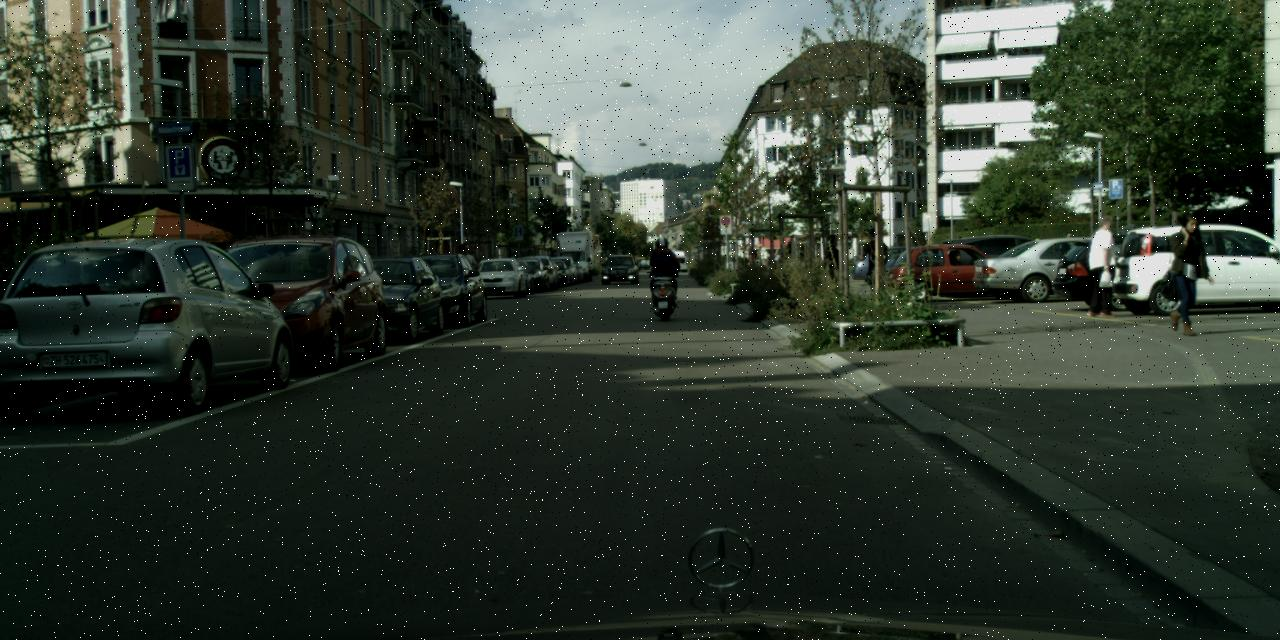ped: (1162, 213, 1209, 329), (1084, 215, 1124, 316), (861, 227, 891, 304), (451, 242, 480, 312), (649, 237, 676, 304), (820, 233, 846, 299), (1057, 232, 1079, 286)
